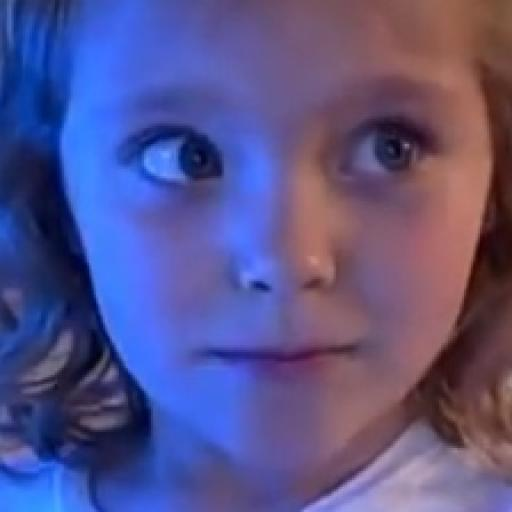Autism: (38, 0, 496, 479)
